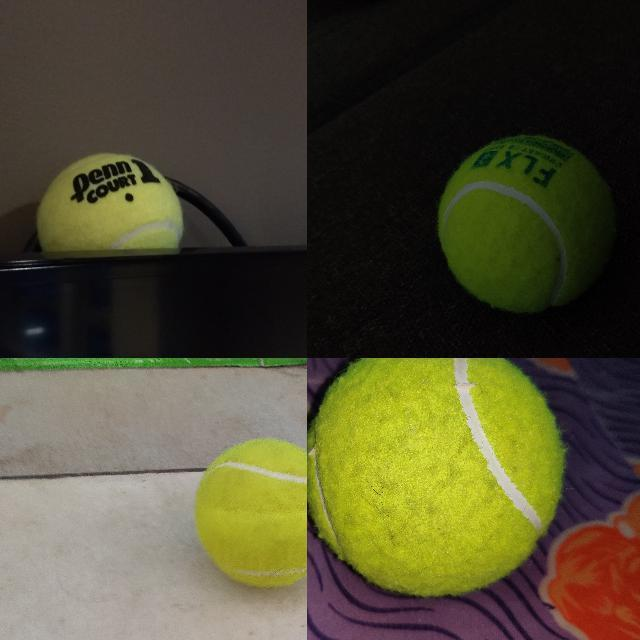tennis-ball: (307, 358, 565, 597), (436, 134, 620, 313), (193, 437, 306, 587), (34, 151, 185, 246)
